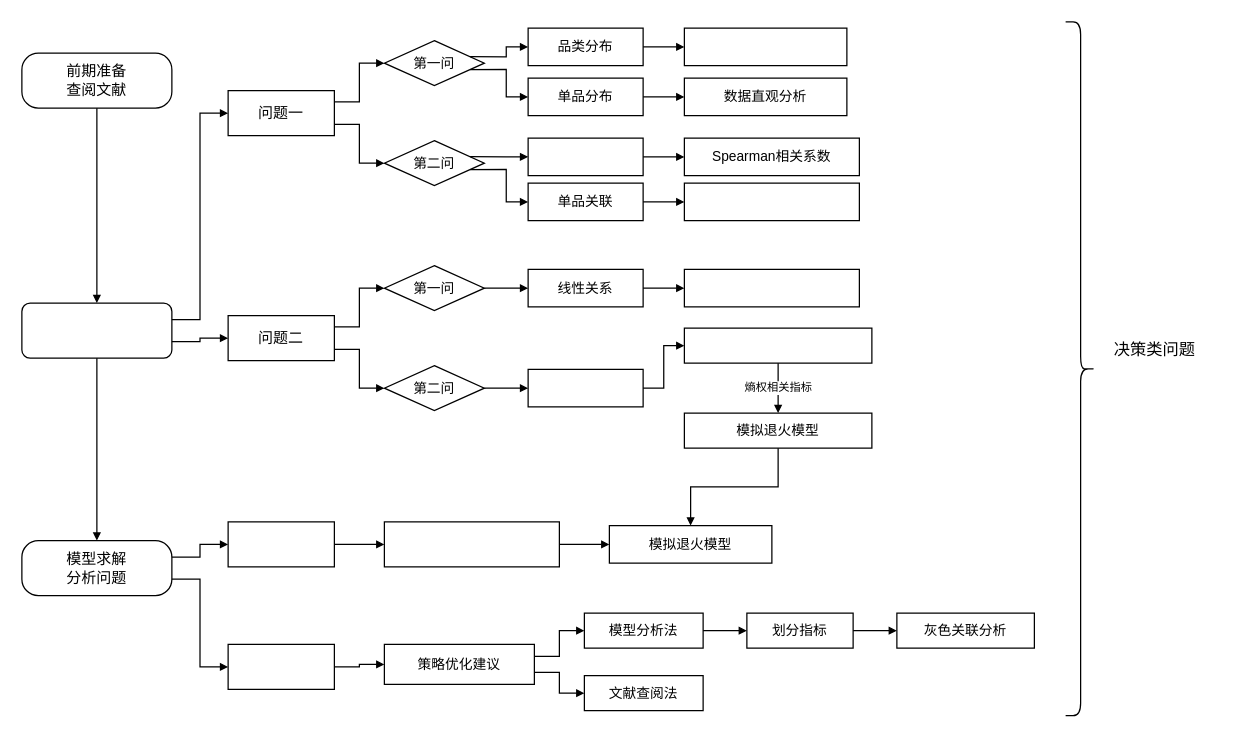
This 1259x738 diagram has some shape labels left out. Here are the shapes that lost their labels. From the top down, the centre of each, then its label:
At (765,46): "数字特征分析".
At (585,156): "品类关联".
At (771,201): "K-means++聚类算法".
At (771,287): "Pearson相关系数".
At (96,330): "数据处理 模型建立".
At (777,345): "时间序列预测模型".
At (585,387): "动态规划".
At (280,544): "问题三".
At (471,544): "动态规划 （约束条件增多）".
At (280,666): "问题四".
